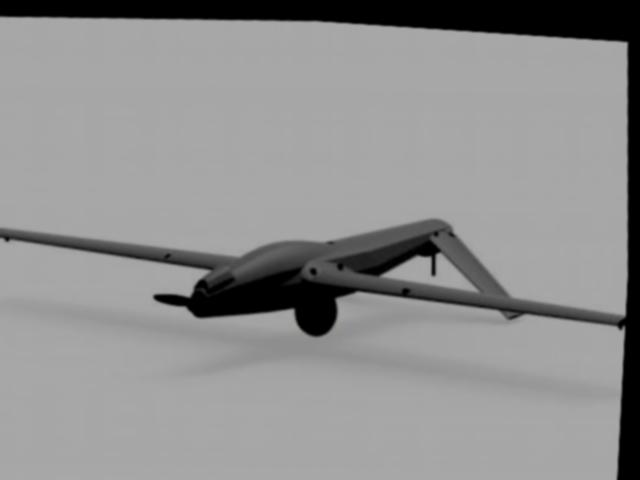uav: (0, 176, 633, 366)
